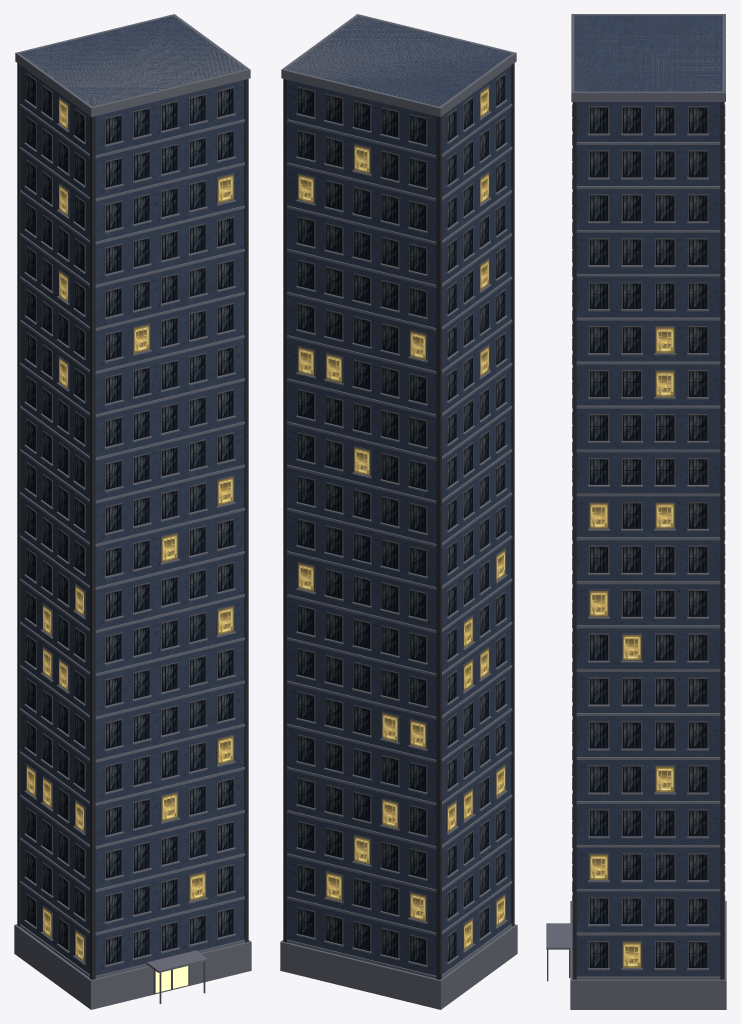
File: tower.glb
3 renders of one model, left to right at view 1: azimuth 30°, elevation 25°; view 2: azimuth 150°, elevation 25°; view 3: azimuth 270°, elevation 25°, orthographic.
Parts seen in each view (by area): view 1: concrete, glass, band, frame, groove, lit, door; view 2: concrete, glass, band, frame, groove, lit; view 3: concrete, glass, band, frame, groove, lit.
Part boxes in pixels (bbox=[...]): concrete: bbox=[20, 16, 245, 975]; glass: bbox=[26, 75, 233, 964]; band: bbox=[14, 14, 251, 1009]; frame: bbox=[26, 73, 234, 1003]; groove: bbox=[17, 63, 248, 979]; lit: bbox=[26, 98, 233, 961]; door: bbox=[155, 966, 188, 992]; concrete: bbox=[286, 16, 511, 975]; glass: bbox=[298, 75, 505, 964]; band: bbox=[280, 14, 517, 1009]; frame: bbox=[297, 73, 505, 965]; groove: bbox=[283, 63, 514, 979]; lit: bbox=[298, 87, 505, 949]; concrete: bbox=[574, 15, 722, 976]; glass: bbox=[590, 107, 707, 967]; band: bbox=[546, 14, 726, 1009]; frame: bbox=[547, 106, 708, 981]; groove: bbox=[572, 102, 724, 979]; lit: bbox=[590, 327, 674, 967].
Bounding box in the file's own units: 11.7 × 62.7 × 11.2.
Materials: 7 (3 with a texture image).
